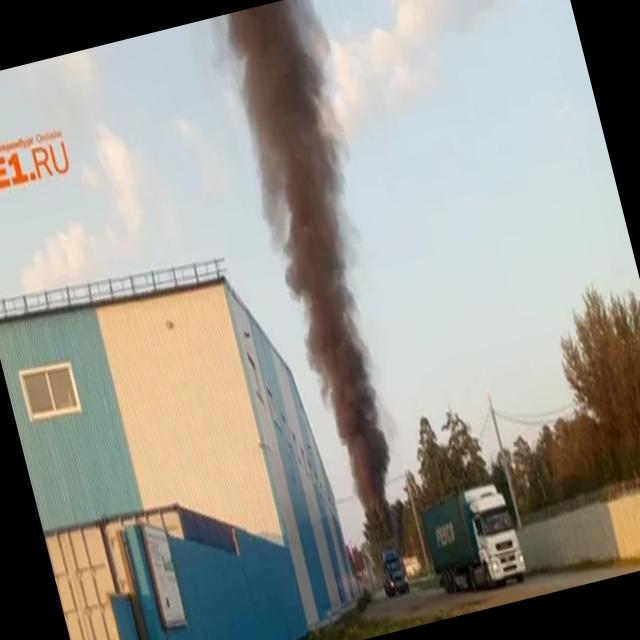Smoke: (209, 0, 425, 519)
